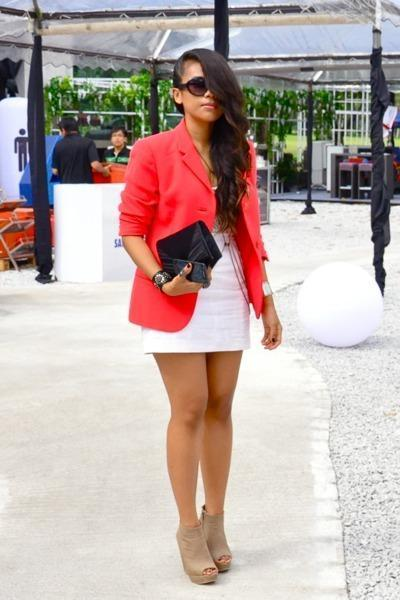bag: (157, 220, 222, 287)
dress: (139, 228, 264, 352)
jacket: (108, 118, 272, 332)
shoe: (176, 523, 231, 585)
sunglass: (180, 71, 213, 101)
